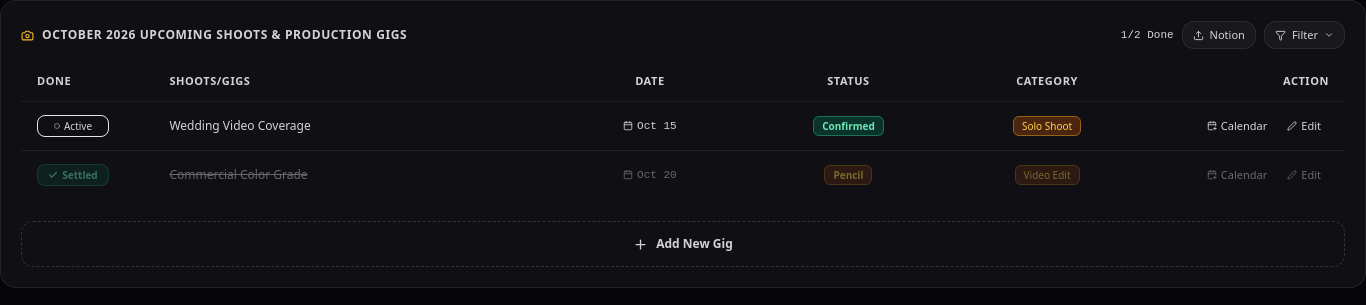
Scenario: ShootsTable - Notion Sync Interactions › shows failure message when sync fails completely
Click the button with aria-label "Sync to Notion": (1219, 35) [1182, 21, 1256, 49]
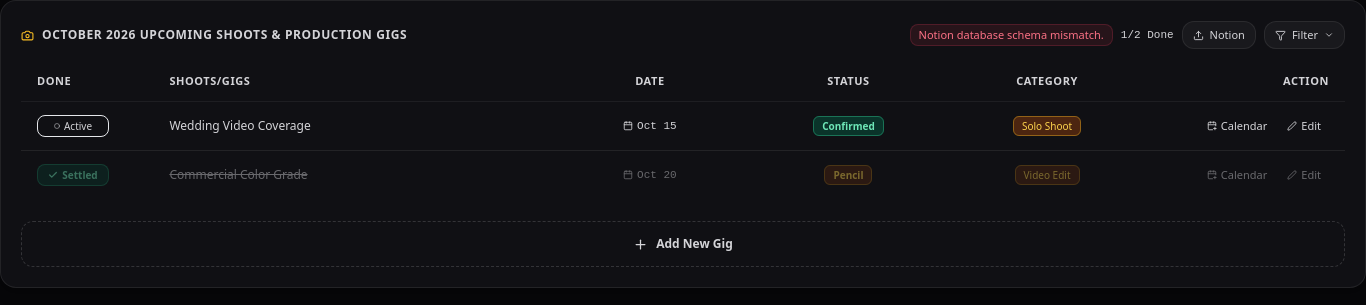
Expected: the text with test id "notion-sync-status" reads "Notion database schema mismatch.", [919, 27, 1104, 42]
